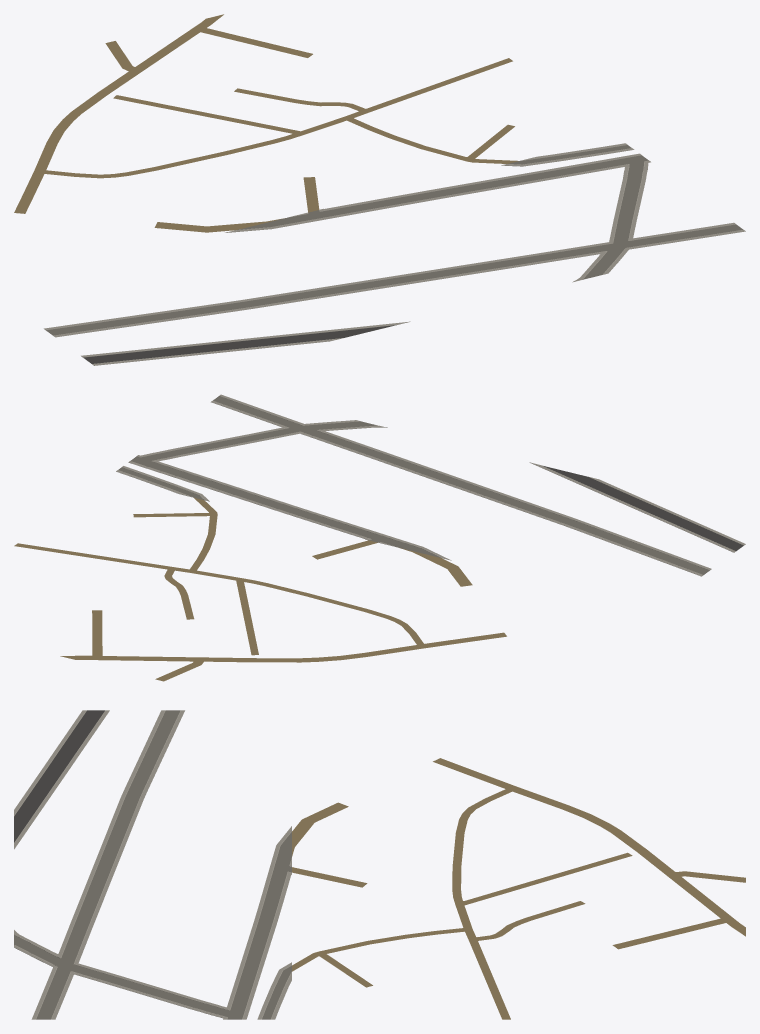
The model's file is Ulice_1_3.fbx.
3 views of the same model, one above another, from view 1: azimuth 30°, elevation 25°; view 2: azimuth 150°, elevation 25°; view 3: azimuth 270°, elevation 25° (orthographic). The views are drawn at different scales.
Visible parts, largest first — view 1: Ulica_1_3, Chodnik_1_3; view 2: Ulica_1_3, Chodnik_1_3; view 3: Ulica_1_3, Chodnik_1_3.
Boxes of the visible parts, bbox=[...] form: Ulica_1_3: bbox=[14, 14, 742, 363]; Chodnik_1_3: bbox=[44, 143, 745, 365]; Ulica_1_3: bbox=[14, 396, 743, 681]; Chodnik_1_3: bbox=[116, 394, 745, 576]; Ulica_1_3: bbox=[14, 710, 745, 1019]; Chodnik_1_3: bbox=[14, 710, 291, 1019].
Bounding box in the file's own units: 500 × 0.16 × 500.
